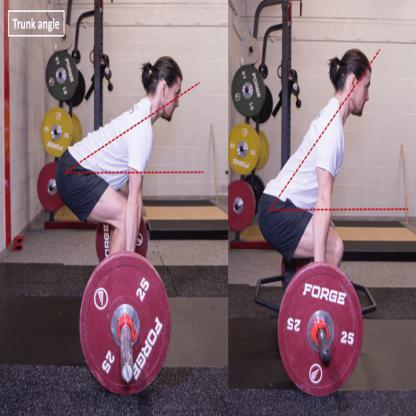Barbell: (74, 246, 177, 400), (271, 256, 367, 401)
